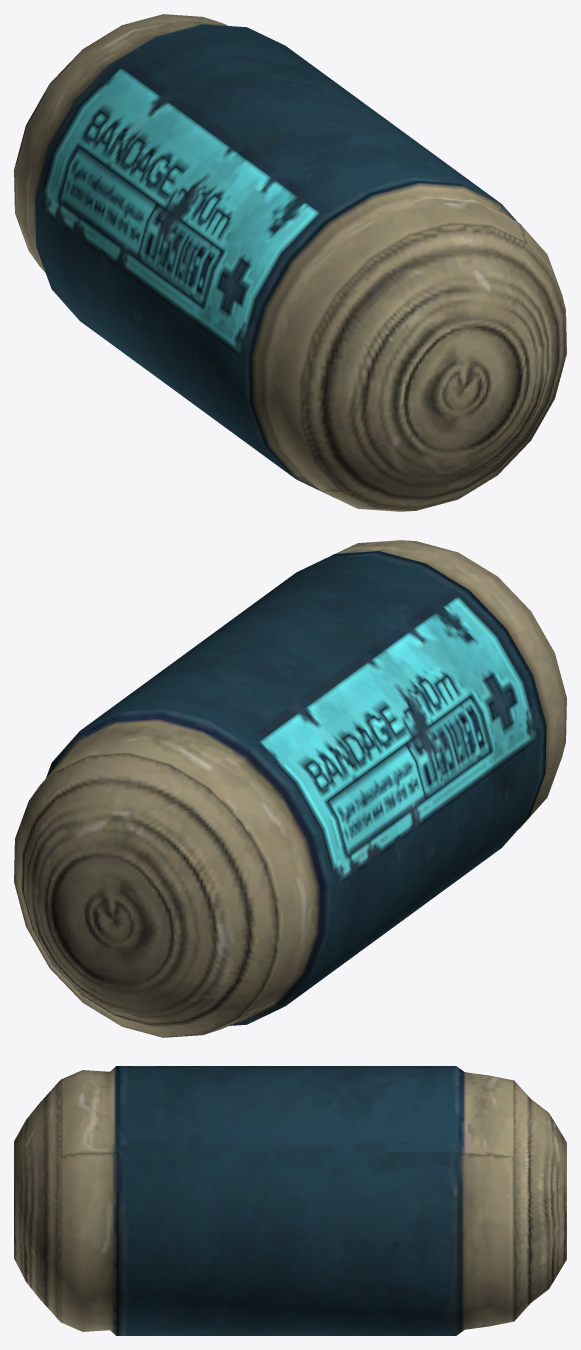
The model's file is bandage_new.DAE.
3 views of the same model, one above another, from view 1: azimuth 30°, elevation 25°; view 2: azimuth 150°, elevation 25°; view 3: azimuth 270°, elevation 25° (orthographic). The views are drawn at different scales.
Parts seen in each view (by area): view 1: bandage_new__2_; view 2: bandage_new__2_; view 3: bandage_new__2_.
Boxes of the visible parts, x1,y1,x2,y2 form: bandage_new__2_: [14, 14, 566, 511]; bandage_new__2_: [14, 540, 566, 1037]; bandage_new__2_: [14, 1066, 566, 1335].
Size of the model in its own units: 0.1226 by 0.1226 by 0.2531.
